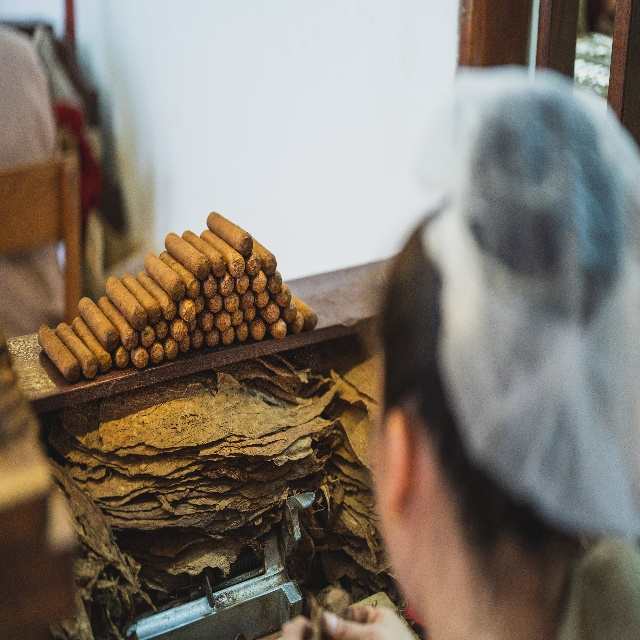Sin_guantes: (321, 599, 417, 640)
